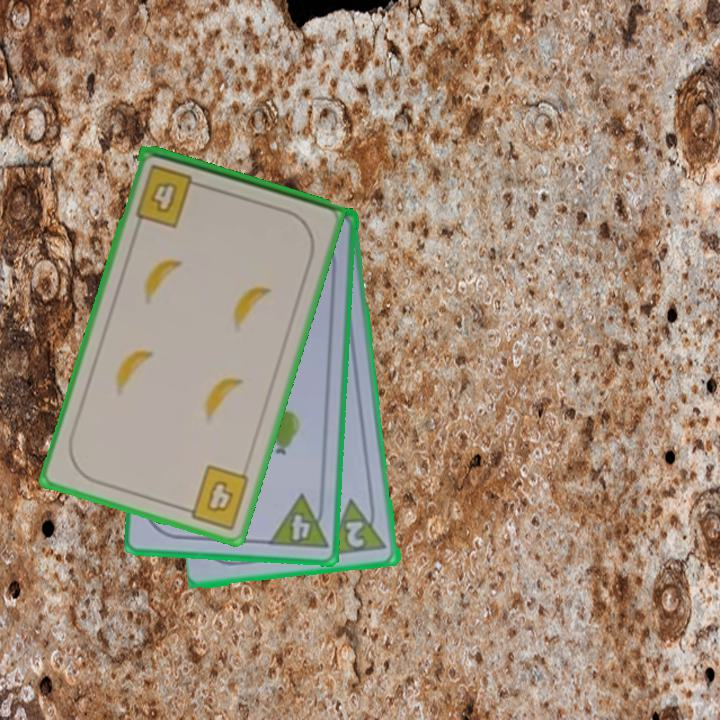2p: (342, 518, 368, 551)
4b: (177, 461, 253, 533), (132, 161, 207, 231)
4p: (265, 491, 331, 552)
